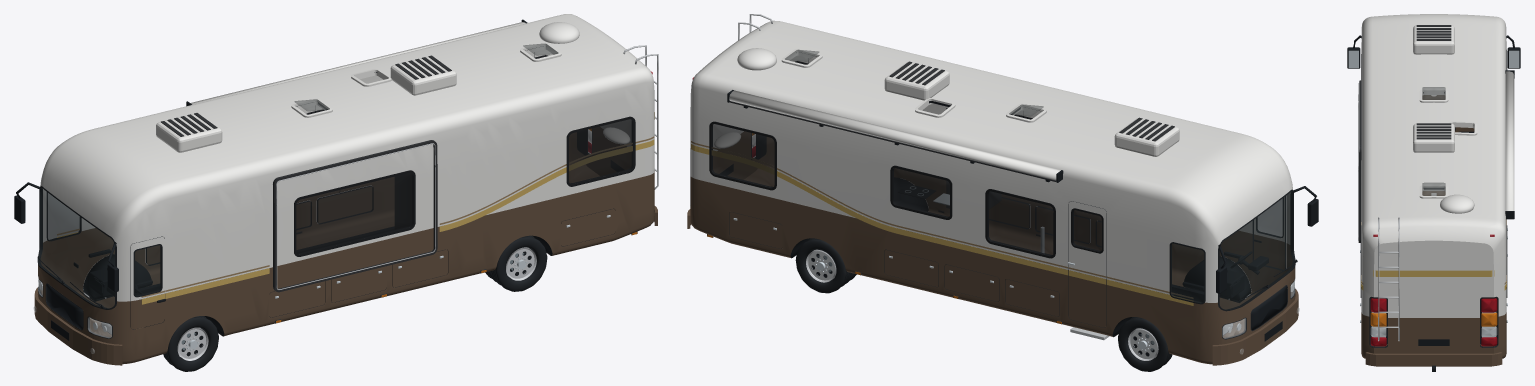
File: 1-rv-classa.glb
The picture shows the model from 3 angles, left to right: view 1: azimuth 30°, elevation 25°; view 2: azimuth 150°, elevation 25°; view 3: azimuth 270°, elevation 25°; orthographic projection. The views are drawn at different scales.
Parts seen in each view (by area): view 1: Original class A motorhome lofted body, Left side window glazing, Wrap-around windscreen glazing, Left side window glazing.001, Slide-out room wall flange and wiper seal, Front bumper, Driver door, Tyre with tread blocks.001, Basement storage locker door.006, Roof air conditioner shroud, Roof air conditioner shroud.001, Tyre with tread blocks (+19 smaller); view 2: Original class A motorhome lofted body, Wrap-around windscreen glazing, Roll-out patio awning cassette, Right side window glazing, Habitation entrance door, Right side window glazing.002, Gold sweep decal.005, Right side window glazing.001, Front bumper, Passenger cab window glazing, Tyre with tread blocks.004, Roof air conditioner shroud (+22 smaller); view 3: Original class A motorhome lofted body, Rear bumper, Roll-out patio awning cassette, Roof air conditioner shroud.001, Roof air conditioner shroud, Rear cap gold decal, Satellite antenna dome, Slide-out room wall flange and wiper seal, Bedroom roof vent tilted hatch, Lounge roof vent tilted hatch, Lounge roof vent raised frame, Shower skylight raised frame (+19 smaller).
Boxes of the visible parts, box(x1,y1,x2,y2) form: Original class A motorhome lofted body: box(38, 14, 654, 364); Left side window glazing: box(296, 173, 413, 254); Wrap-around windscreen glazing: box(38, 187, 114, 308); Left side window glazing.001: box(569, 119, 633, 184); Slide-out room wall flange and wiper seal: box(273, 140, 437, 292); Front bumper: box(34, 287, 122, 365); Driver door: box(130, 236, 164, 329); Tyre with tread blocks.001: box(491, 235, 547, 291); Basement storage locker door.006: box(317, 186, 372, 223); Roof air conditioner shroud: box(156, 113, 222, 152); Roof air conditioner shroud.001: box(390, 56, 456, 95); Tyre with tread blocks: box(163, 316, 218, 371); Original class A motorhome lofted body: box(690, 20, 1295, 364); Wrap-around windscreen glazing: box(1219, 191, 1294, 309); Roll-out patio awning cassette: box(729, 90, 1060, 180); Right side window glazing: box(987, 191, 1053, 256); Habitation entrance door: box(1068, 201, 1106, 327); Right side window glazing.002: box(711, 124, 774, 187); Gold sweep decal.005: box(691, 144, 1067, 275); Right side window glazing.001: box(892, 168, 949, 217); Front bumper: box(1212, 289, 1298, 365); Passenger cab window glazing: box(1171, 243, 1204, 302); Tyre with tread blocks.004: box(795, 238, 850, 293); Roof air conditioner shroud: box(1114, 118, 1179, 156); Original class A motorhome lofted body: box(1361, 14, 1506, 358); Rear bumper: box(1365, 352, 1502, 366); Roll-out patio awning cassette: box(1505, 71, 1514, 210); Roof air conditioner shroud.001: box(1413, 123, 1454, 152); Roof air conditioner shroud: box(1413, 25, 1454, 54); Rear cap gold decal: box(1373, 270, 1494, 276); Satellite antenna dome: box(1440, 194, 1474, 213); Slide-out room wall flange and wiper seal: box(1358, 80, 1361, 242); Bedroom roof vent tilted hatch: box(1422, 182, 1445, 195); Lounge roof vent tilted hatch: box(1422, 87, 1445, 99); Lounge roof vent raised frame: box(1419, 89, 1448, 102); Shower skylight raised frame: box(1449, 121, 1477, 135).
Size of the model in its own units: 9.71 by 3.41 by 2.98.
